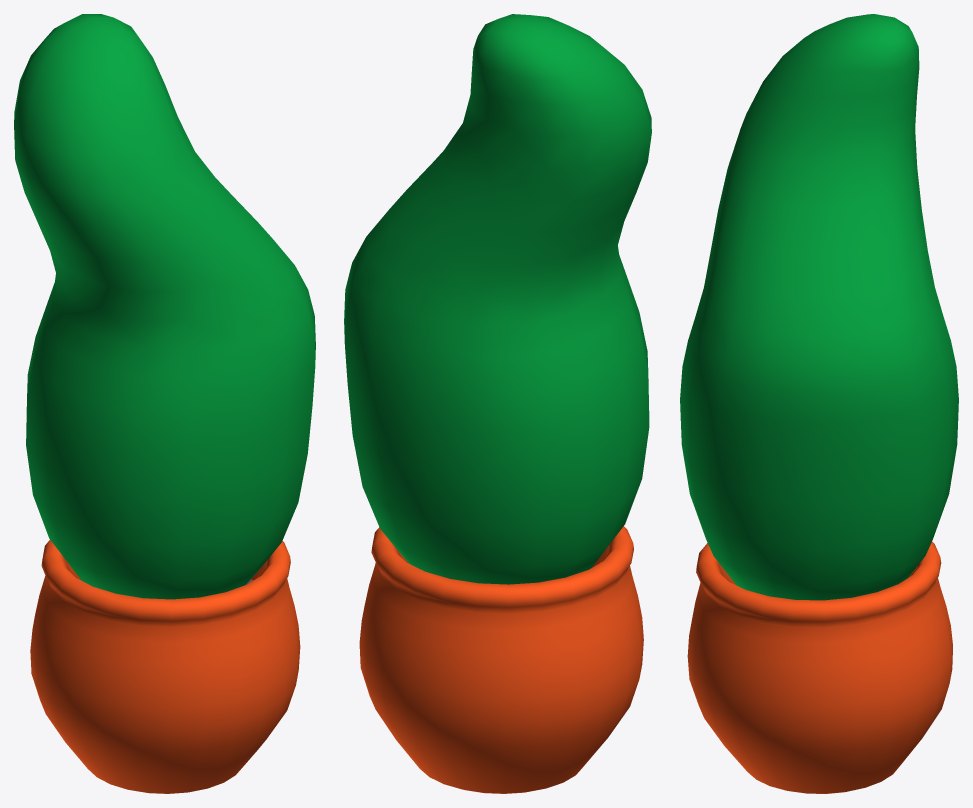
File: City_1_Tree_3.glb
3 renders of one model, left to right at view 1: azimuth 30°, elevation 25°; view 2: azimuth 150°, elevation 25°; view 3: azimuth 270°, elevation 25°, orthographic. The views are drawn at different scales.
Visible parts, largest first — view 1: City_1_Tree_3; view 2: City_1_Tree_3; view 3: City_1_Tree_3.
Part boxes in pixels (x1,y1,x2,y2): City_1_Tree_3: (14, 14, 315, 793); City_1_Tree_3: (344, 14, 651, 793); City_1_Tree_3: (680, 14, 958, 793).
Size of the model in its own units: 0.729 by 1.94 by 0.6789.
1 material, 1 textured.
